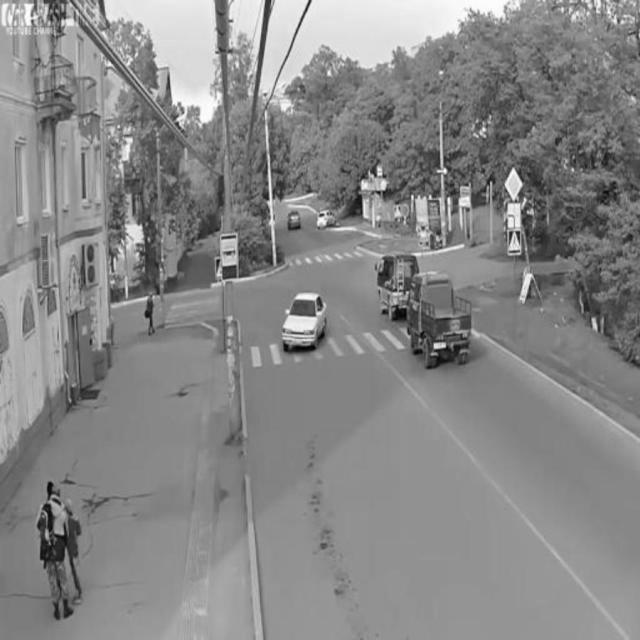person: (36, 477, 76, 621), (142, 286, 160, 336)
vehicle: (404, 272, 475, 370), (375, 251, 422, 322), (280, 294, 327, 352), (315, 207, 341, 231), (285, 206, 305, 233)
